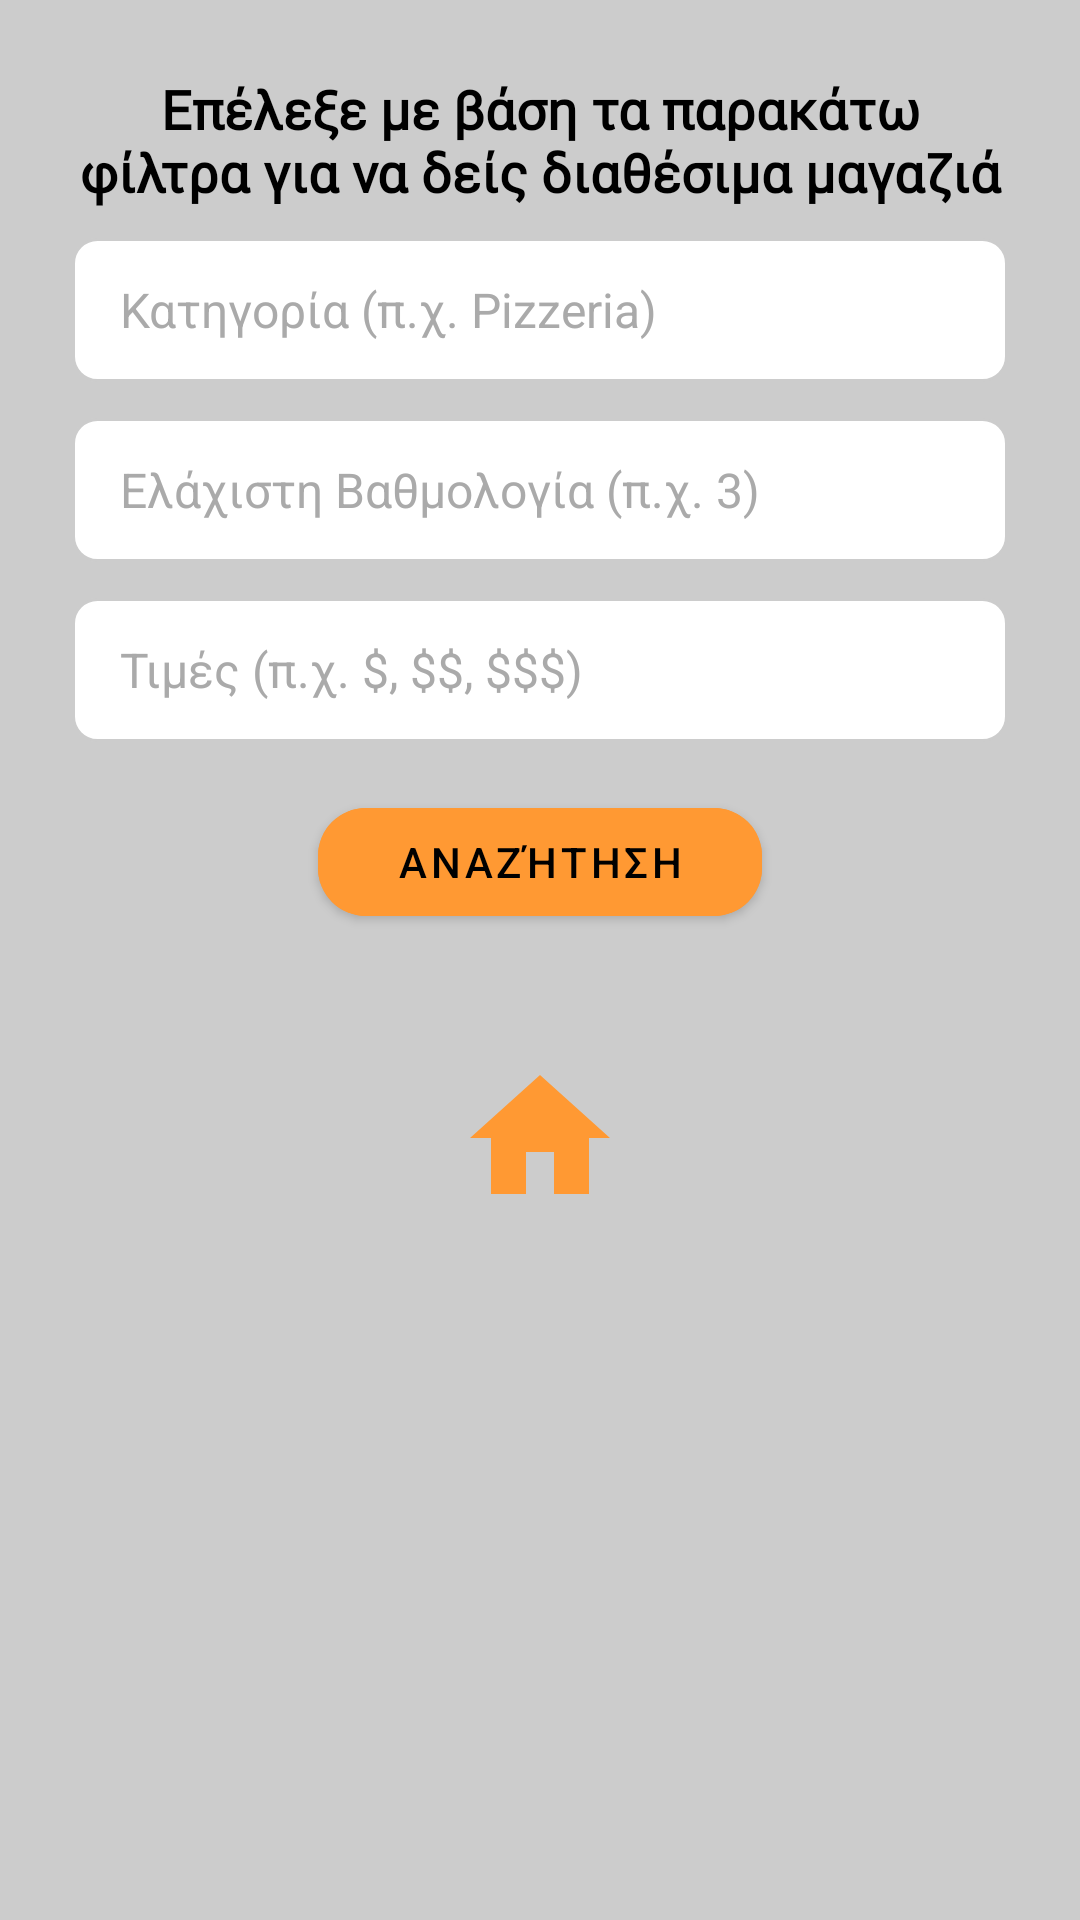

Named icons in this screenshot (1080×1920) and their centers, (x,y):
Αρχική: (540,1134)
